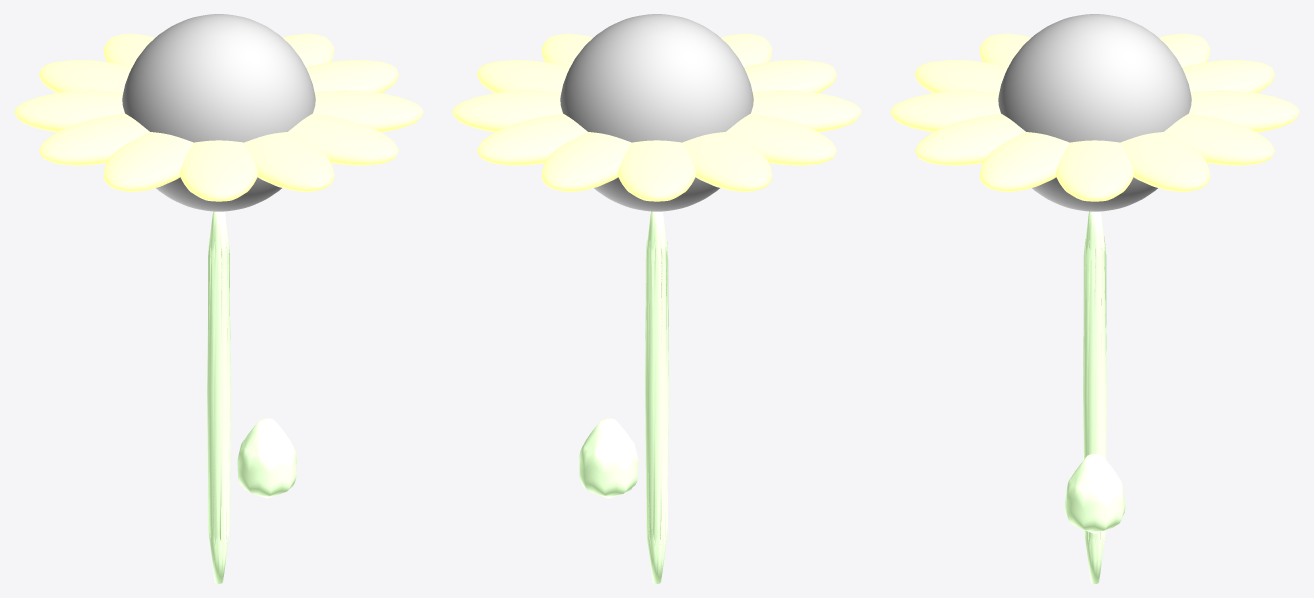
The model's file is plant_sunflower_r2_v3.glb.
3 views of the same model, side by side, from view 1: azimuth 30°, elevation 25°; view 2: azimuth 150°, elevation 25°; view 3: azimuth 270°, elevation 25° (orthographic).
Visible parts, largest first — view 1: center, st, pt_8, pt_7, pt_9, lf, pt_10, pt_6, pt_11, pt_5, pt_0, pt_4 (+2 smaller); view 2: center, st, pt_4, pt_3, pt_5, lf, pt_2, pt_6, pt_1, pt_7, pt_0, pt_8 (+2 smaller); view 3: center, st, pt_0, pt_1, pt_11, lf, pt_10, pt_2, pt_3, pt_9, pt_4, pt_8 (+2 smaller).
Part boxes in pixels (bbox=[...]): center: bbox=[122, 14, 315, 211]; st: bbox=[207, 211, 230, 583]; pt_8: bbox=[179, 140, 258, 201]; pt_7: bbox=[103, 132, 193, 191]; pt_9: bbox=[244, 132, 334, 191]; lf: bbox=[237, 418, 296, 498]; pt_10: bbox=[288, 113, 399, 165]; pt_6: bbox=[38, 113, 149, 165]; pt_11: bbox=[313, 90, 423, 132]; pt_5: bbox=[14, 90, 124, 132]; pt_0: bbox=[306, 60, 398, 92]; pt_4: bbox=[39, 60, 131, 92]; center: bbox=[560, 14, 753, 211]; st: bbox=[645, 211, 668, 583]; pt_4: bbox=[617, 140, 696, 201]; pt_3: bbox=[541, 132, 631, 191]; pt_5: bbox=[682, 132, 772, 191]; lf: bbox=[579, 418, 638, 498]; pt_2: bbox=[476, 113, 587, 165]; pt_6: bbox=[726, 113, 837, 165]; pt_1: bbox=[452, 90, 562, 132]; pt_7: bbox=[751, 90, 861, 132]; pt_0: bbox=[477, 60, 569, 92]; pt_8: bbox=[744, 60, 836, 92]; center: bbox=[998, 14, 1191, 211]; st: bbox=[1083, 211, 1106, 583]; pt_0: bbox=[1055, 140, 1134, 201]; pt_1: bbox=[1120, 132, 1210, 191]; pt_11: bbox=[979, 132, 1069, 191]; lf: bbox=[1064, 453, 1125, 533]; pt_10: bbox=[914, 113, 1025, 165]; pt_2: bbox=[1164, 113, 1275, 165]; pt_3: bbox=[1189, 90, 1299, 132]; pt_9: bbox=[890, 90, 1000, 132]; pt_4: bbox=[1182, 60, 1274, 92]; pt_8: bbox=[915, 60, 1007, 92].
Size of the model in its own units: 0.7354 by 1.11 by 0.7354.
